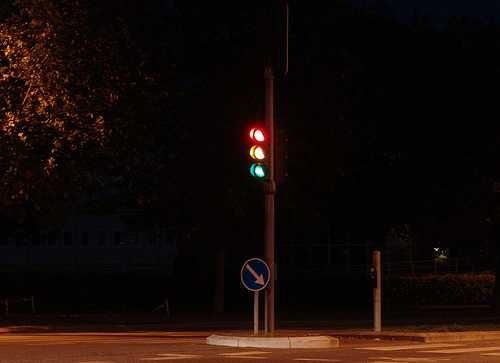green: (248, 163, 266, 179)
red: (250, 125, 270, 146)
